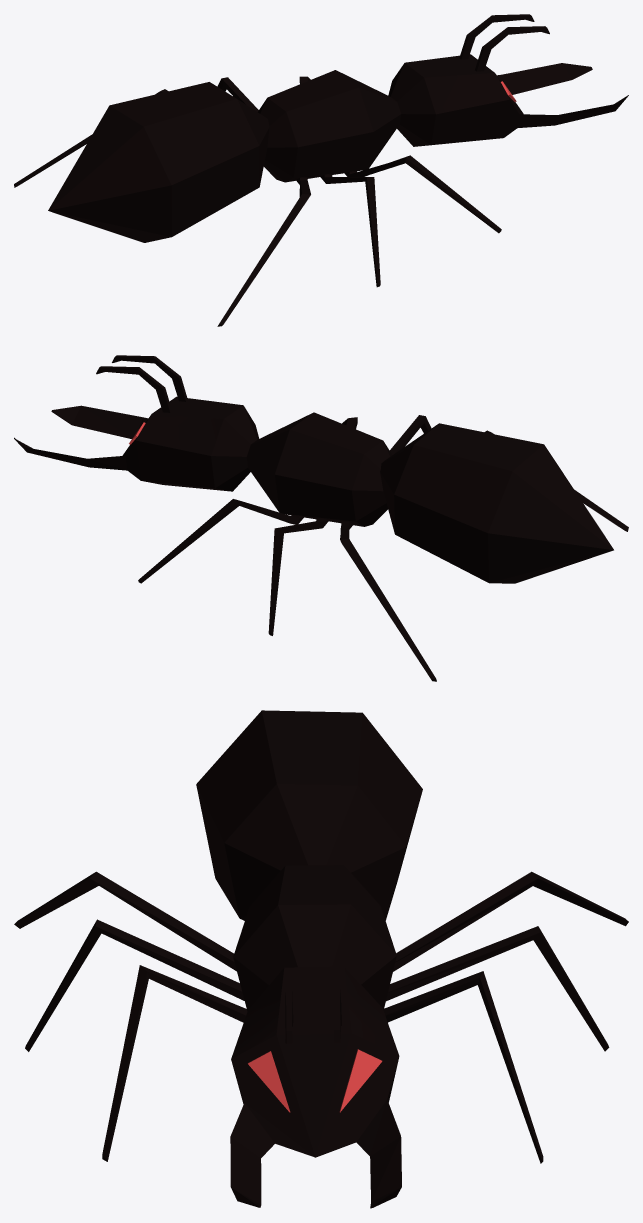
Rendered from FourmisRougeV2.fbx.
The picture shows the model from 3 angles, top to bottom: view 1: azimuth 30°, elevation 25°; view 2: azimuth 150°, elevation 25°; view 3: azimuth 270°, elevation 25°; orthographic projection. The views are drawn at different scales.
Parts seen in each view (by area): view 1: chest; view 2: chest; view 3: chest.
Part boxes in pixels (left/top/right/bottom): chest: left=14, top=14, right=628, bottom=326; chest: left=14, top=355, right=628, bottom=681; chest: left=14, top=710, right=628, bottom=1208.
Bounding box in the file's own units: 179 × 44.09 × 109.
